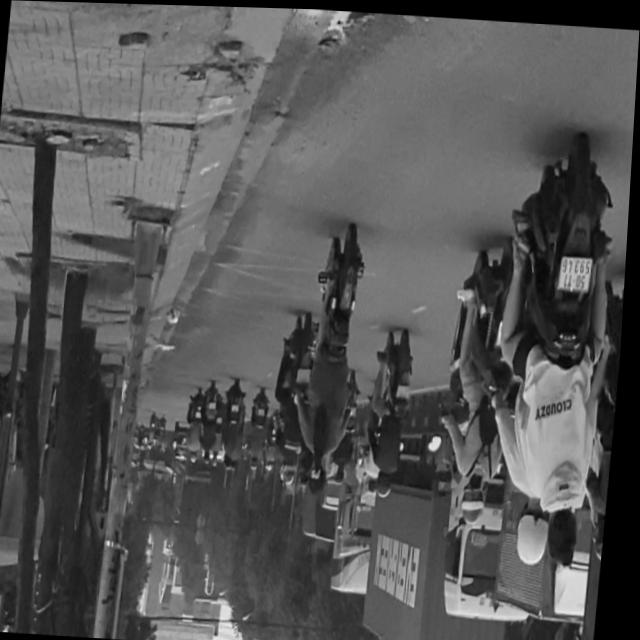helmet: (520, 493, 559, 564), (464, 478, 493, 525), (312, 455, 334, 497), (381, 470, 399, 497)
licenseplate: (480, 130, 632, 569), (439, 233, 529, 527), (290, 211, 375, 500), (366, 324, 422, 498)
motorcyclist: (551, 503, 588, 565)
nohelmet: (562, 253, 596, 289)
